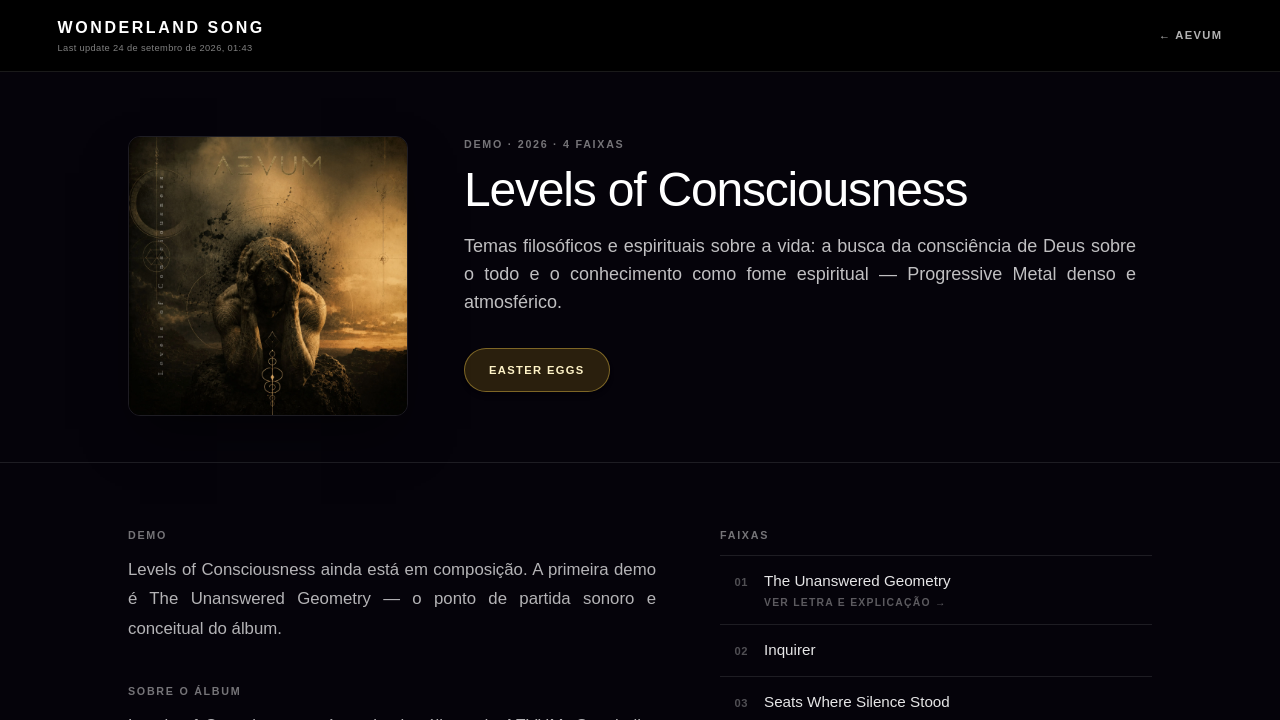
Test case: App › opens AEVUM album with demo track The Unanswered Geometry
Expected: the heading "Levels of Consciousness" is shown, [464,163,967,216]
Expected: the text "demo é The Unanswered Geometry" is shown, [128,560,656,638]
Click the button "The Unanswered Geometry Ver letra e explicação →": {"x": 857, "y": 581} [764,570,1152,610]
(page scrolled)
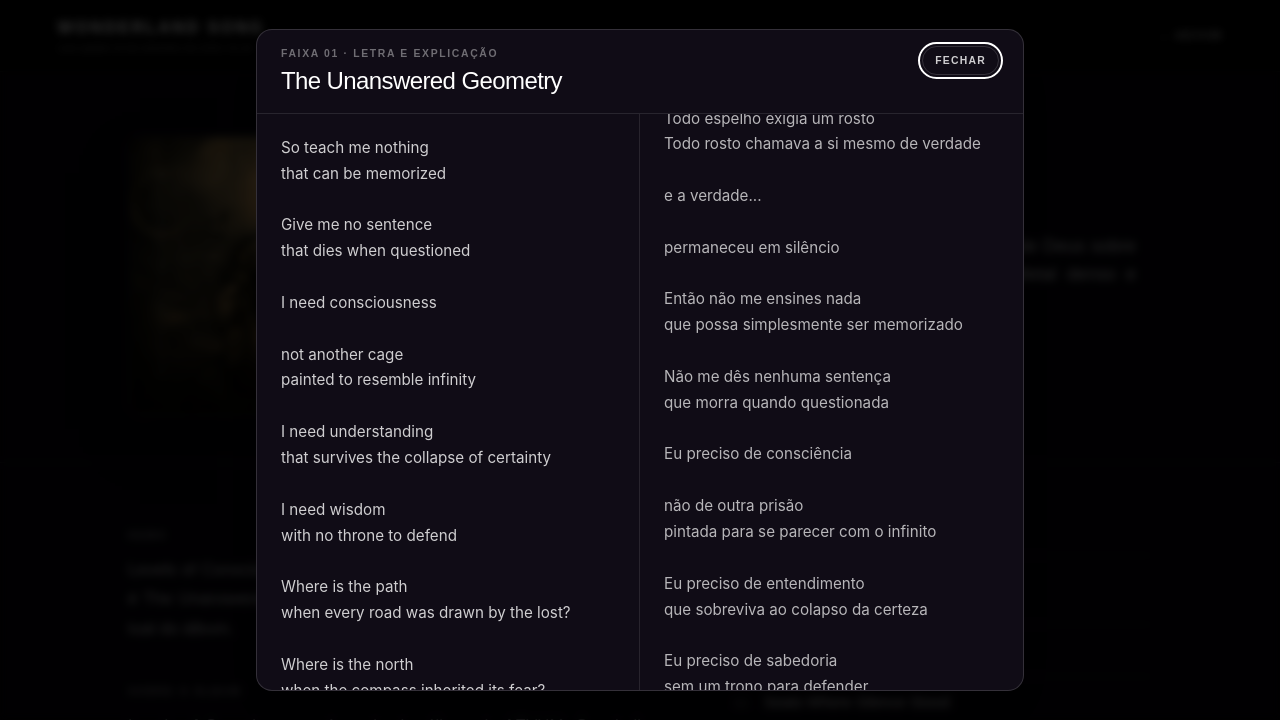
Expected: the dialog is shown
